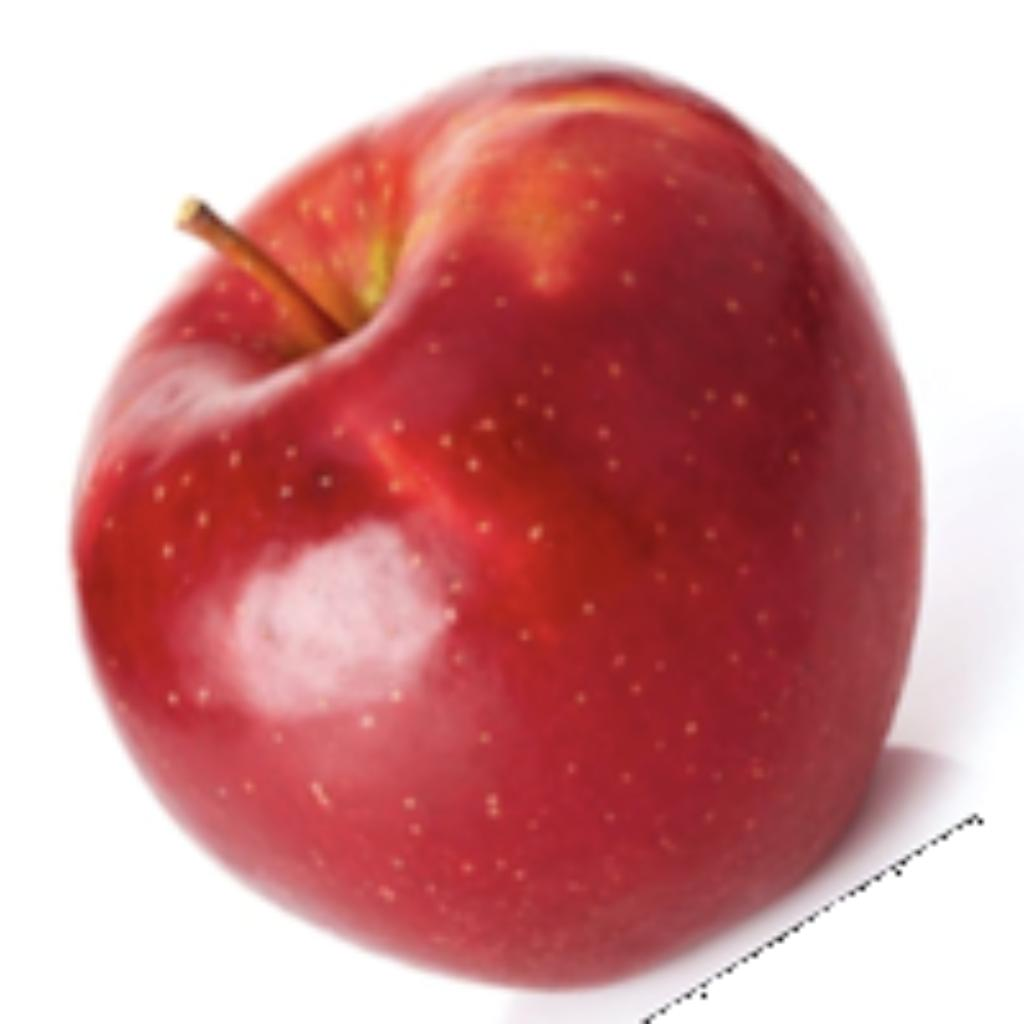apple: (61, 46, 1014, 1019)
